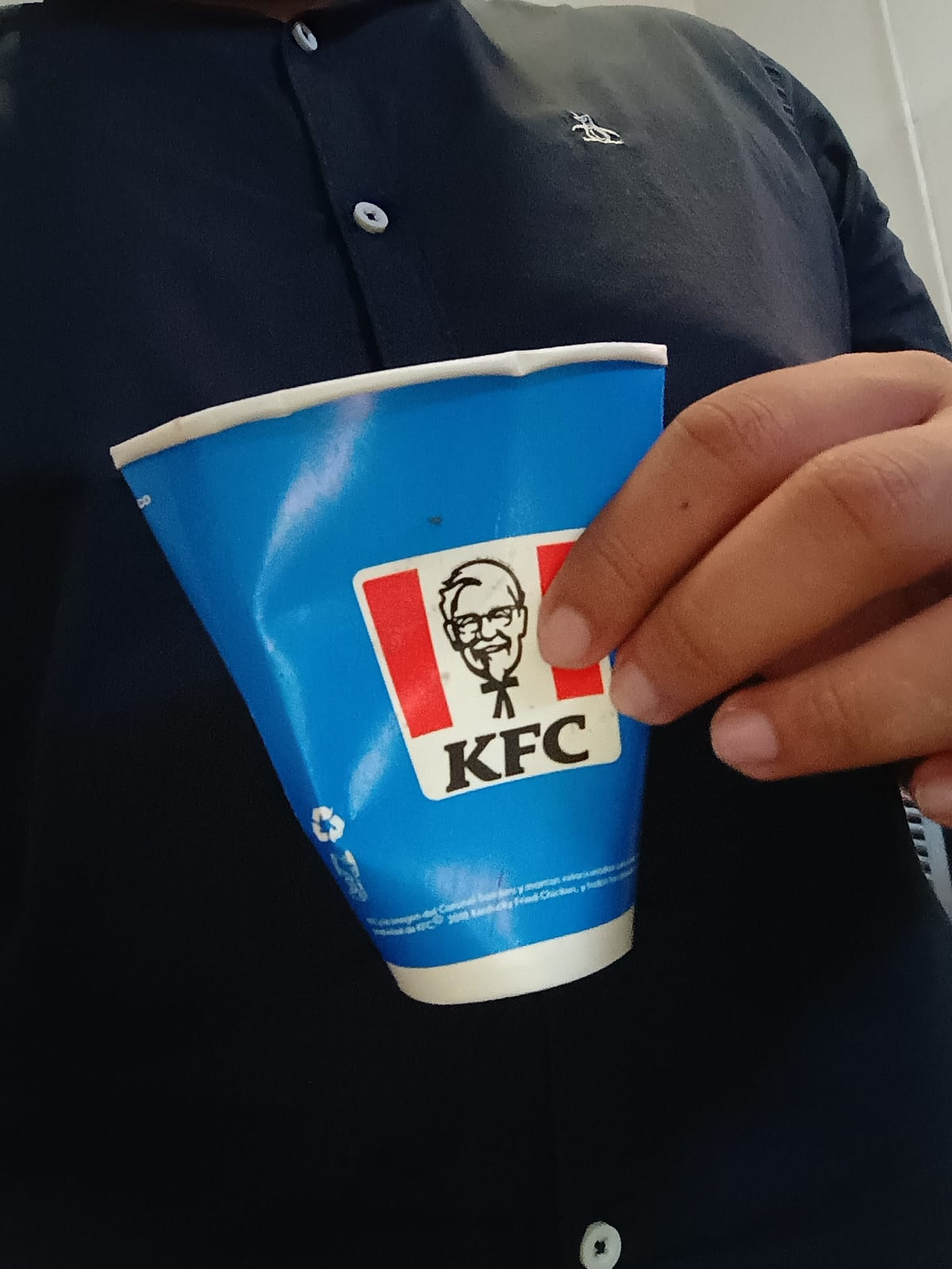Carton: (108, 340, 671, 1005)
